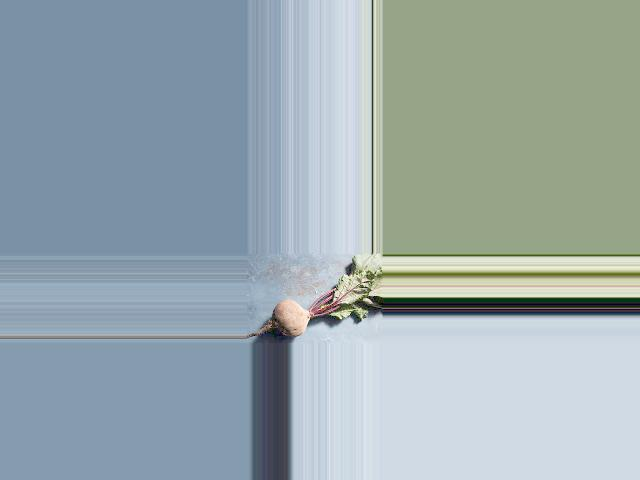beet: (247, 253, 383, 338)
